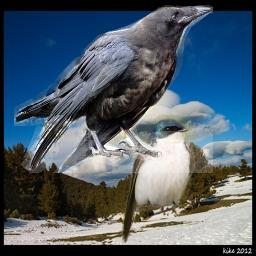Crow: (14, 5, 213, 173)
Swallow: (122, 114, 196, 243)
